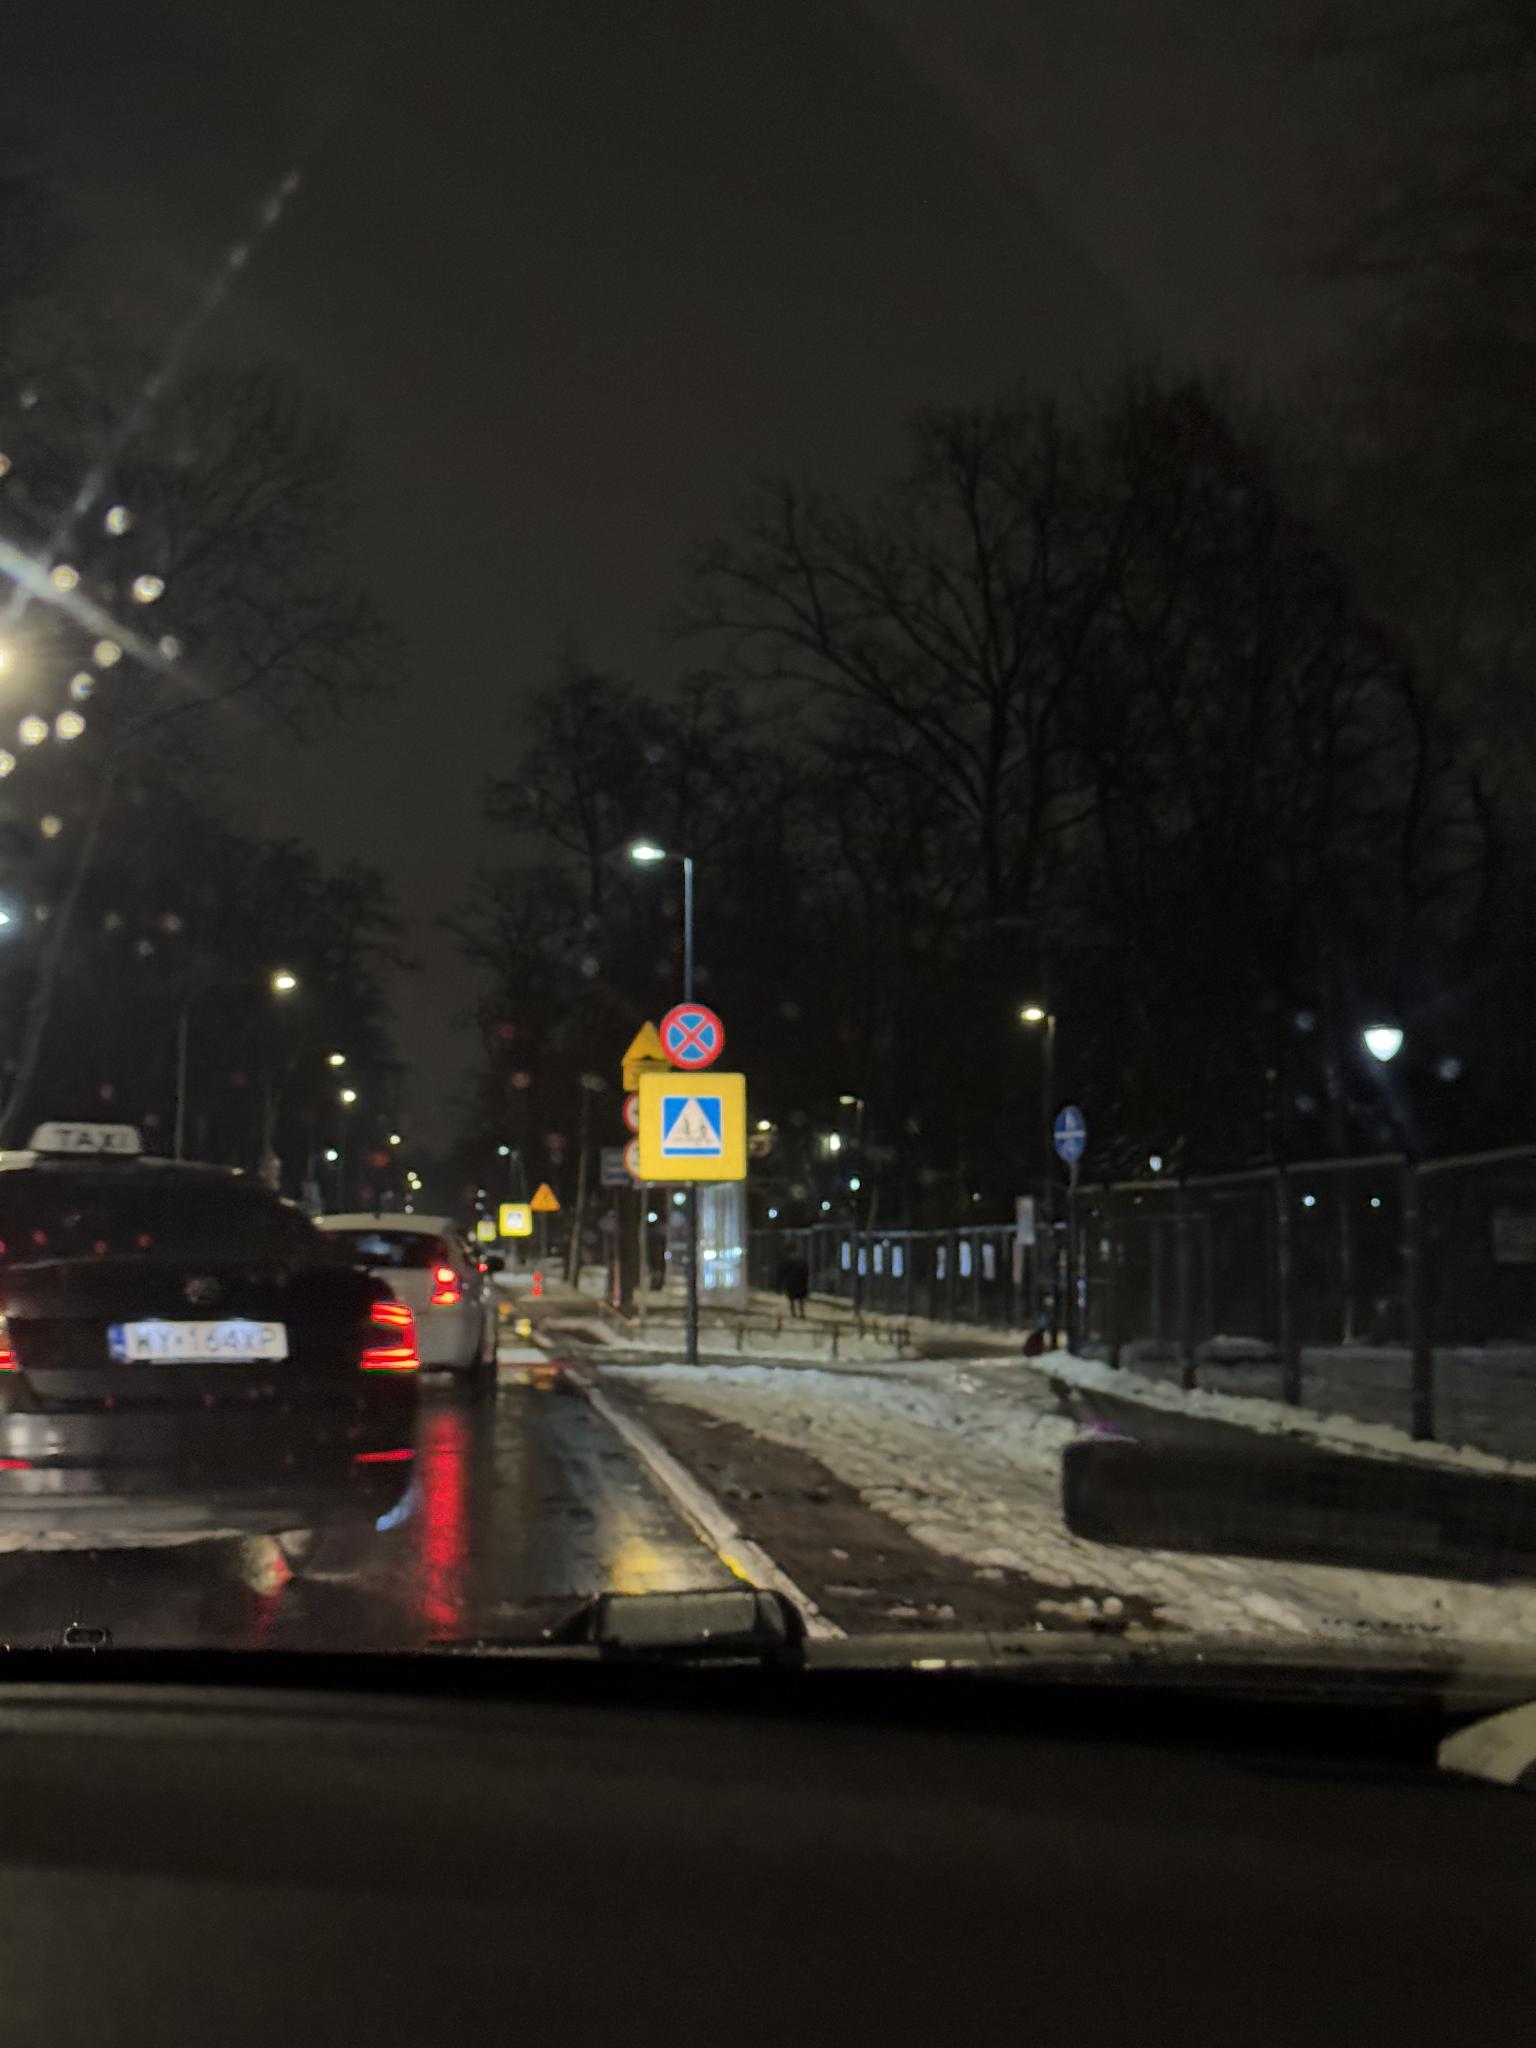information: (662, 1097, 724, 1158)
prohibitory: (658, 1003, 724, 1069), (623, 1135, 641, 1180), (623, 1092, 641, 1135)
warning: (620, 1019, 658, 1064), (529, 1184, 561, 1211)
